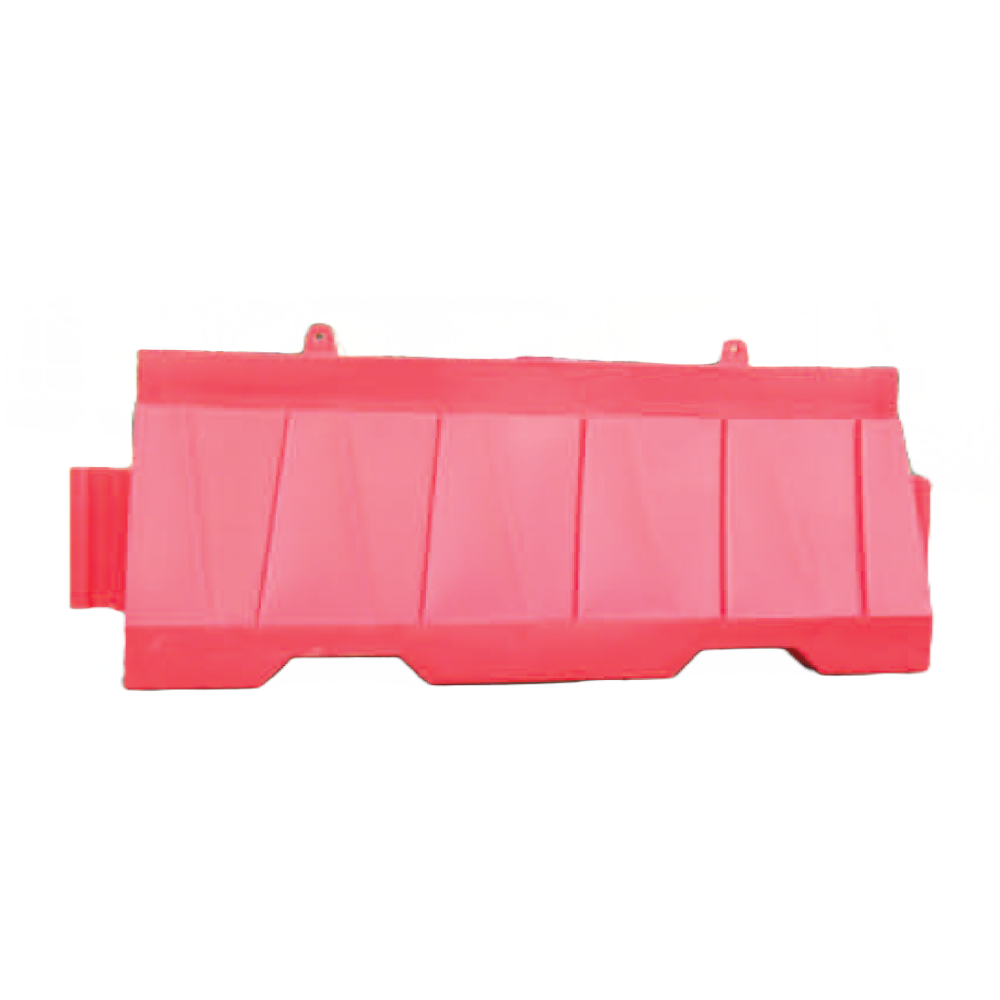Barrier: (33, 309, 952, 734)
